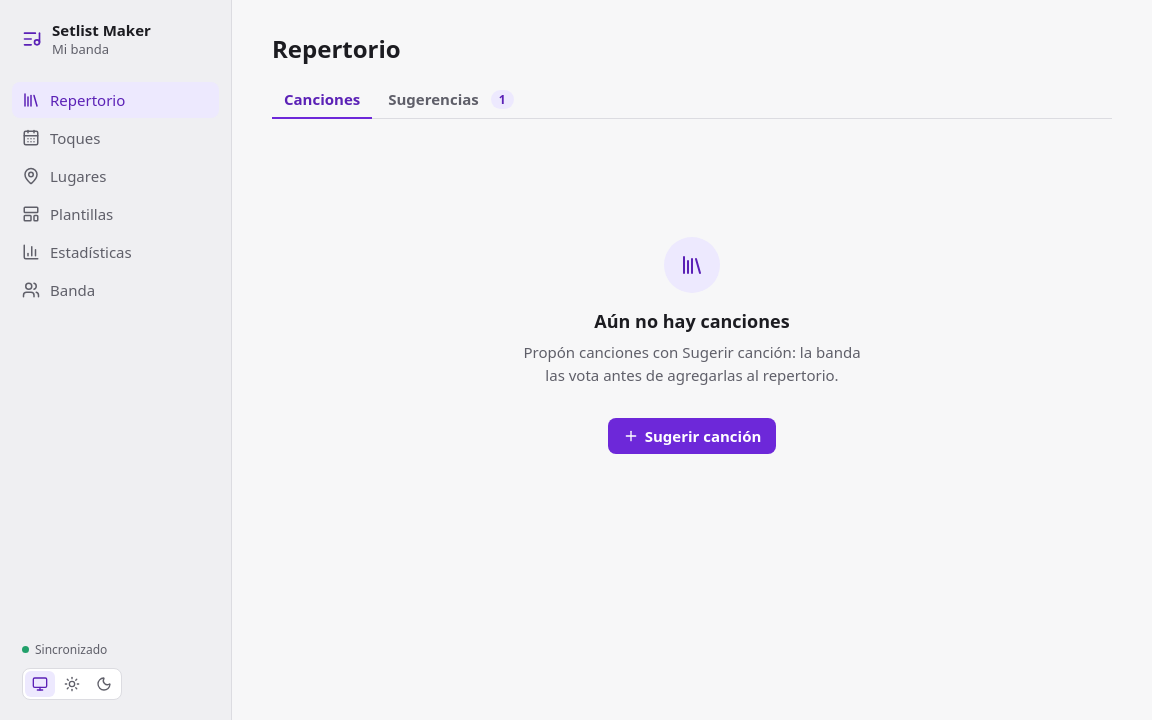
Sugerencias › has editors suggest songs from Canciones instead of adding them
Expected: the text "Propón canciones con Sugerir canción: la banda las vota antes de agregarlas al repertorio." is shown, [523,342,860,385]
Click the button "Sugerir canción" at (692, 436), box [608,418,776,454]
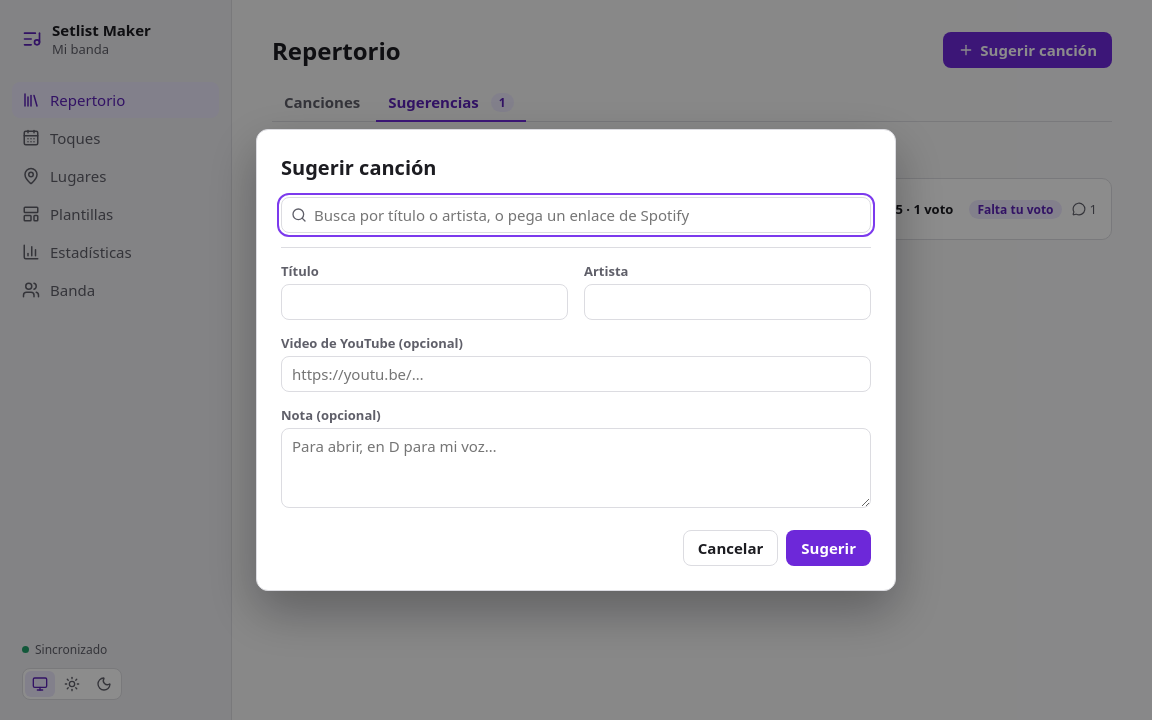
Now the dialog "Sugerir canción" is shown, box [256,129,896,591]
